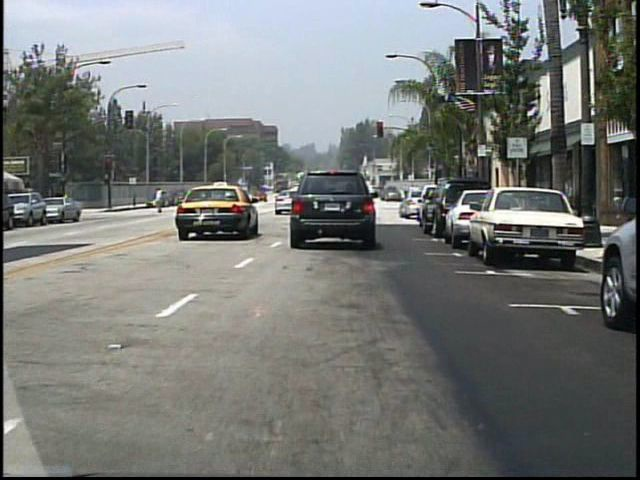person: (363, 185, 380, 216), (153, 188, 169, 216)
